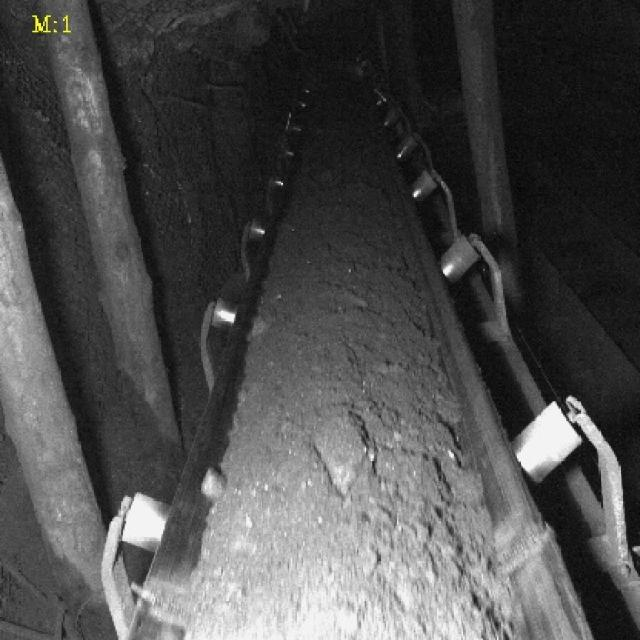large_sized_coal: (312, 406, 366, 491)
